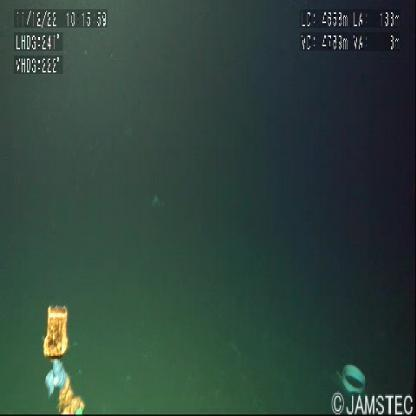Rác: (336, 364, 367, 398)
